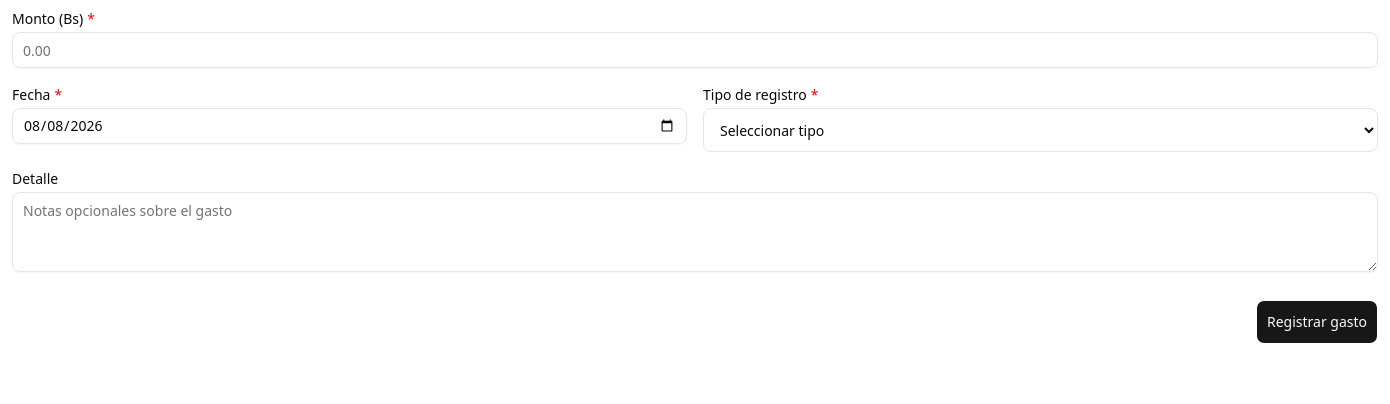
Test: MovimientoInversionForm › muestra error si monto está vacío al enviar
Click the button "Registrar gasto": (1317, 322) [1256,300,1378,344]
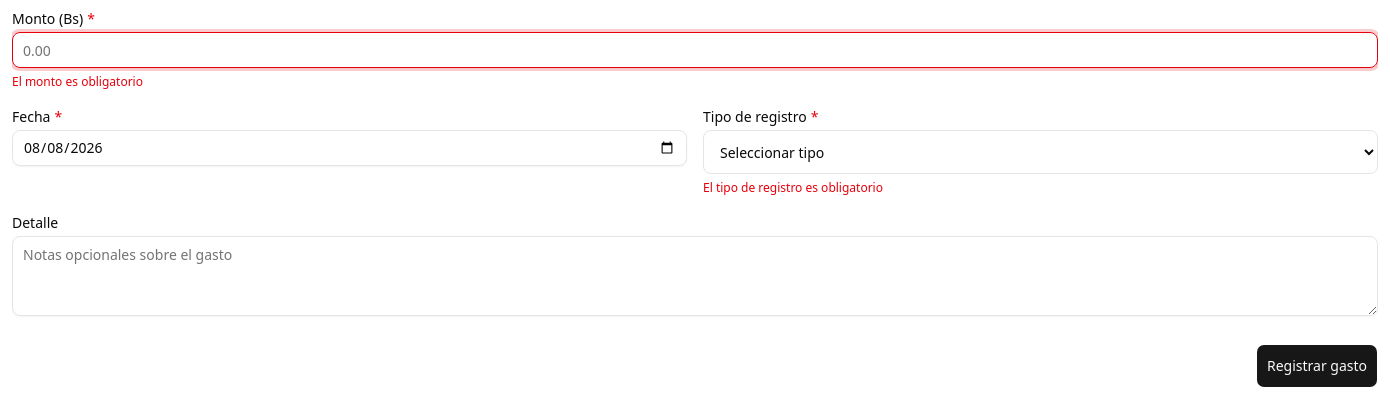
Result: the text "El monto es obligatorio" is shown at [12,73,143,90]
